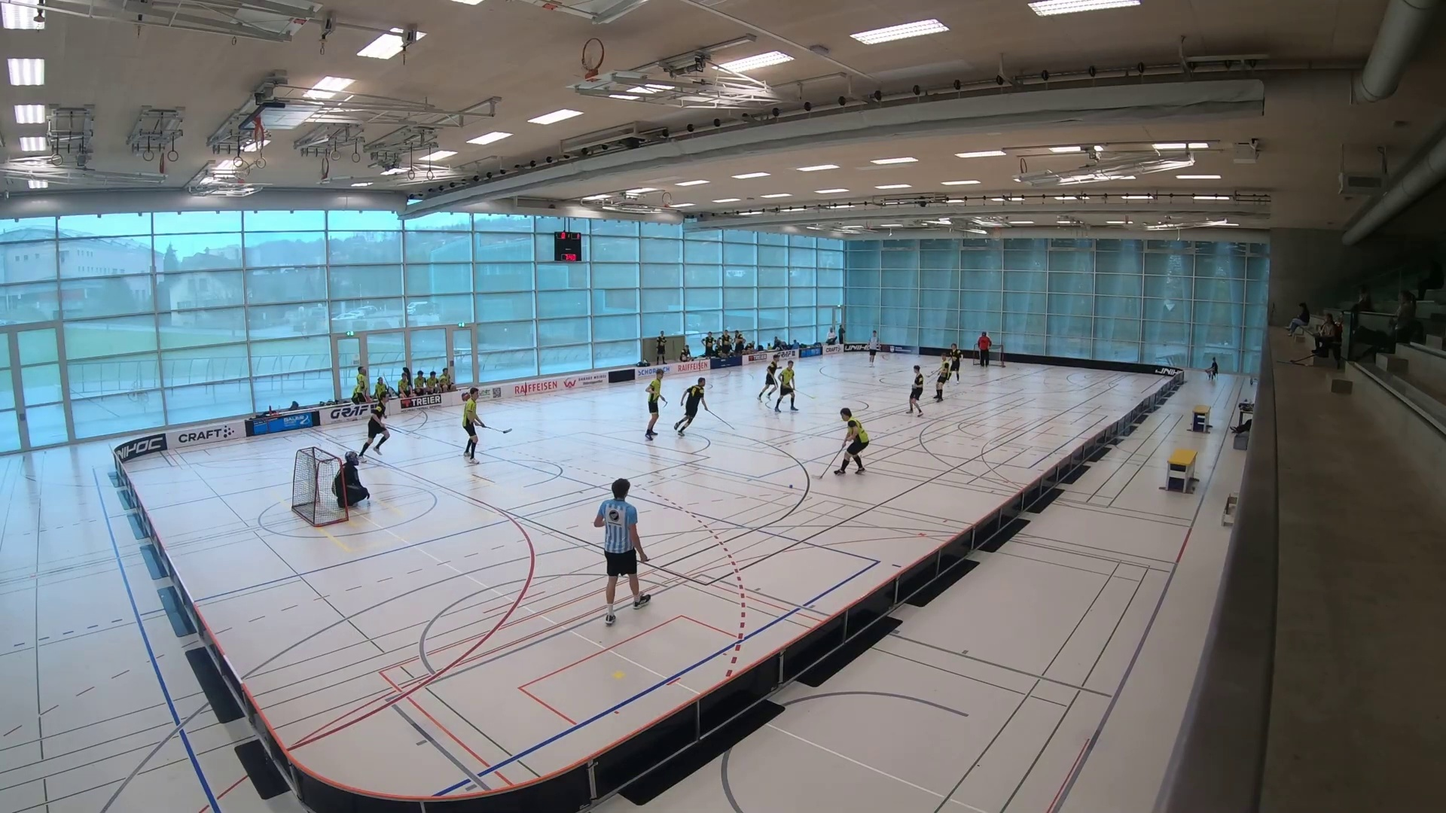Schiri: (589, 473, 656, 627), (865, 329, 879, 367)
ball: (784, 482, 798, 493)
goalkeeper: (330, 447, 375, 511), (976, 330, 994, 370)
player: (358, 389, 427, 462), (673, 374, 744, 441), (810, 404, 871, 481), (460, 386, 515, 465), (776, 359, 821, 416), (643, 364, 669, 443), (924, 342, 966, 383), (902, 363, 927, 420), (757, 353, 784, 405), (925, 353, 948, 405)
